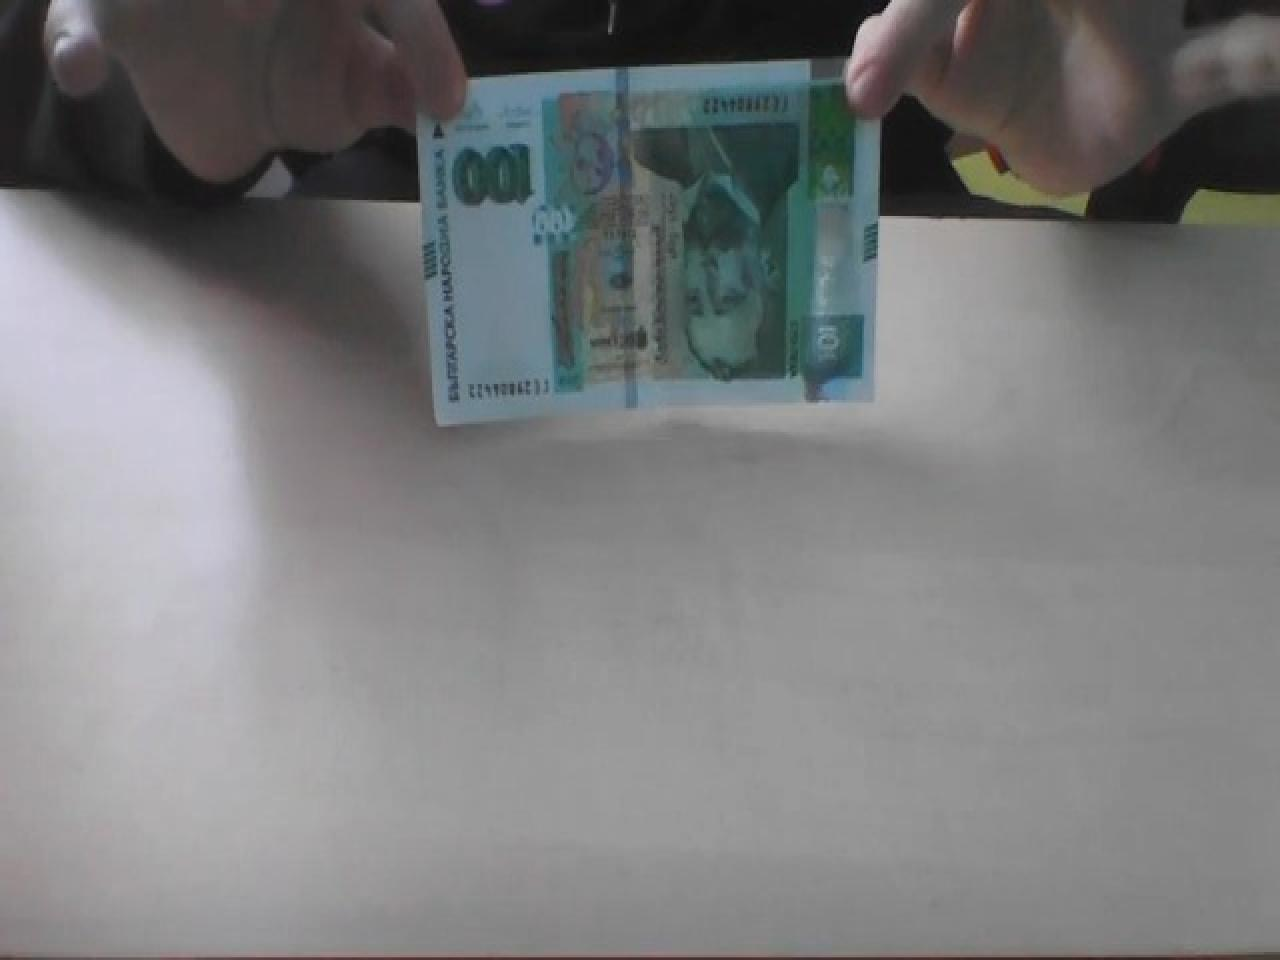100leva: (416, 58, 884, 430)
